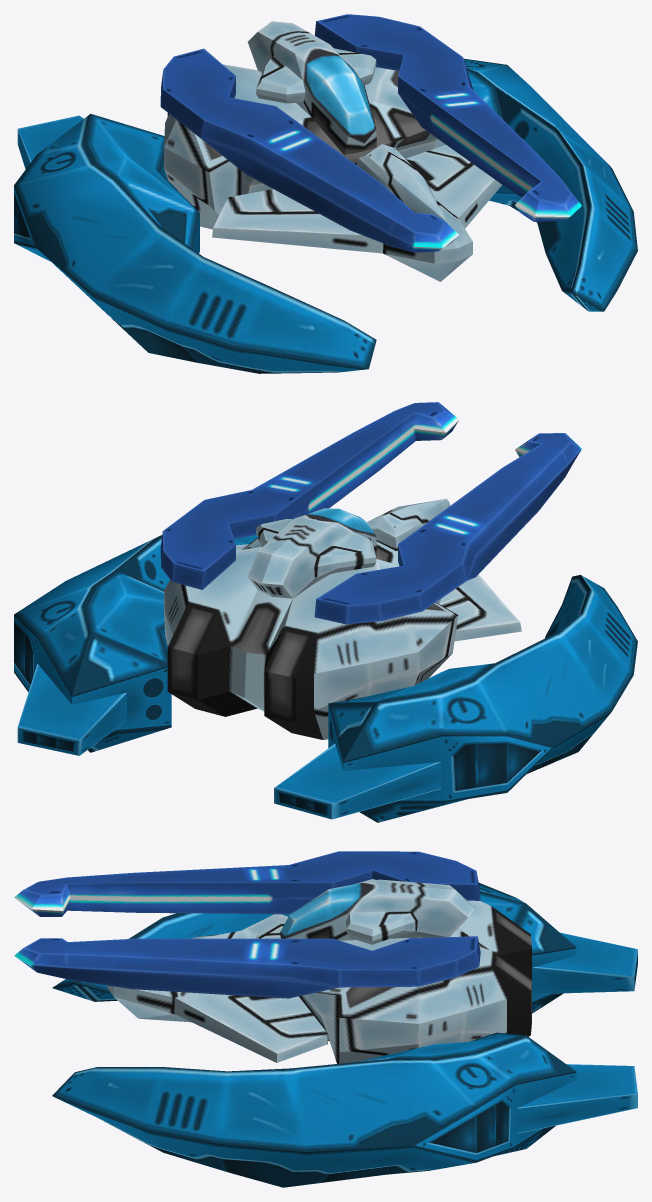
Rendered from space_ship_for_games.glb.
3 renders of one model, top to bottom at view 1: azimuth 30°, elevation 25°; view 2: azimuth 150°, elevation 25°; view 3: azimuth 270°, elevation 25°, orthographic. The views are drawn at different scales.
Visible parts, largest first — view 1: alas, canon, cuerpo; view 2: alas, cuerpo, canon; view 3: alas, canon, cuerpo.
Boxes of the visible parts, bbox=[...] form: alas: bbox=[14, 58, 637, 373]; canon: bbox=[160, 14, 581, 252]; cuerpo: bbox=[164, 21, 501, 281]; alas: bbox=[14, 535, 637, 822]; cuerpo: bbox=[164, 499, 521, 739]; canon: bbox=[160, 402, 581, 624]; alas: bbox=[52, 883, 637, 1187]; canon: bbox=[14, 851, 480, 998]; cuerpo: bbox=[107, 879, 531, 1063].
Size of the model in its own units: 241 by 96.02 by 267.
3 materials, 3 textured.
